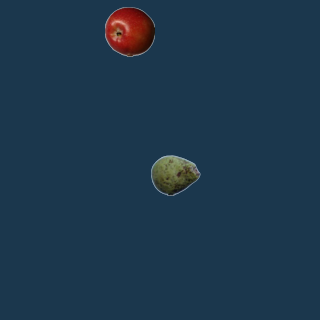Apple Braeburn: (104, 6, 154, 56)
Pear Stone: (150, 150, 200, 200)
